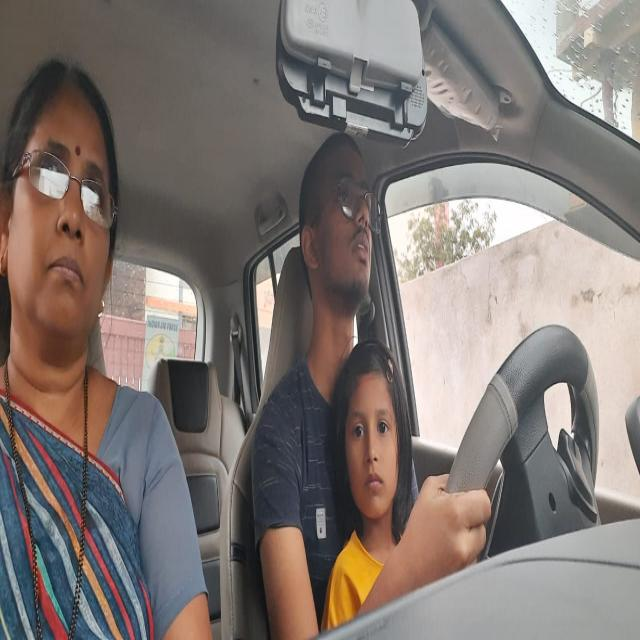child: (334, 343, 413, 530)
person: (0, 49, 119, 365), (296, 128, 376, 326)
